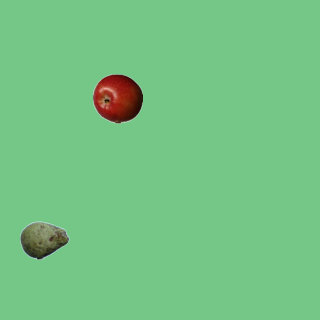Apple Braeburn: (92, 73, 142, 123)
Pear Stone: (19, 215, 69, 265)
